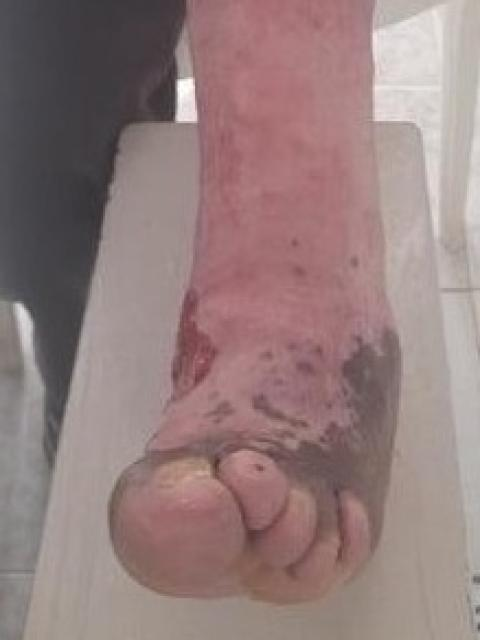wound: (171, 288, 221, 407)
